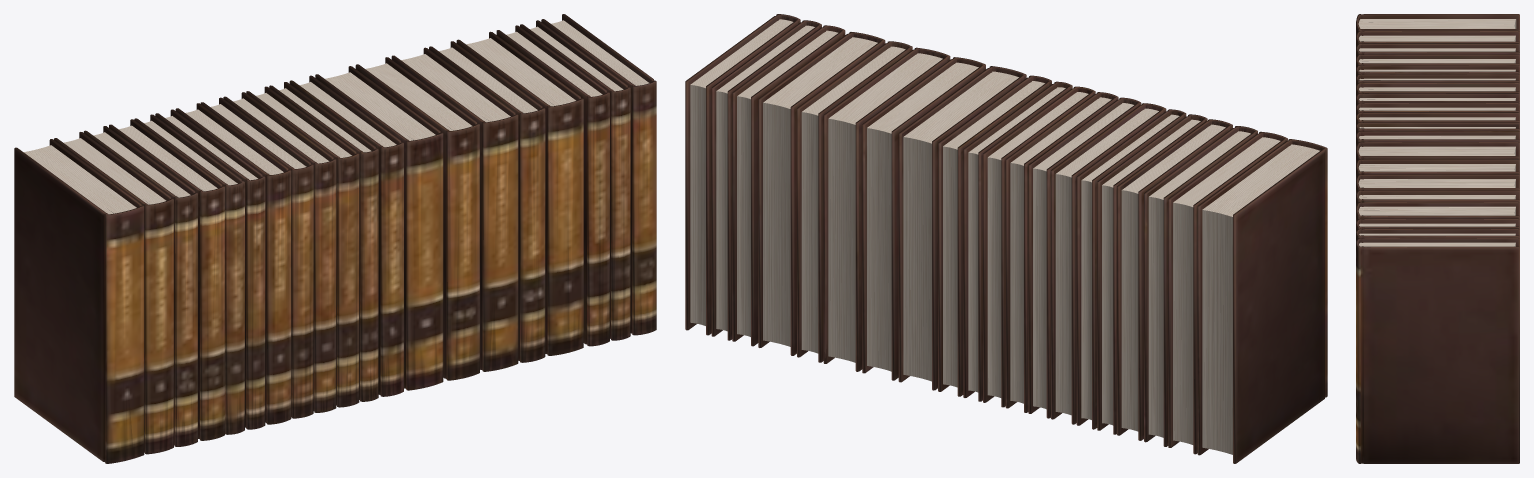
Rendered from books.glb.
3 views of the same model, side by side, from view 1: azimuth 30°, elevation 25°; view 2: azimuth 150°, elevation 25°; view 3: azimuth 270°, elevation 25° (orthographic). The views are drawn at different scales.
Parts seen in each view (by area): view 1: book_encyclopedia_set_01_book01, book_encyclopedia_set_01_book13, book_encyclopedia_set_01_book15, book_encyclopedia_set_01_book17, book_encyclopedia_set_01_book14, book_encyclopedia_set_01_book02, book_encyclopedia_set_01_book16, book_encyclopedia_set_01_book04, book_encyclopedia_set_01_book18, book_encyclopedia_set_01_book20, book_encyclopedia_set_01_book07, book_encyclopedia_set_01_book12 (+8 smaller); view 2: book_encyclopedia_set_01_book01, book_encyclopedia_set_01_book13, book_encyclopedia_set_01_book15, book_encyclopedia_set_01_book17, book_encyclopedia_set_01_book14, book_encyclopedia_set_01_book02, book_encyclopedia_set_01_book04, book_encyclopedia_set_01_book16, book_encyclopedia_set_01_book18, book_encyclopedia_set_01_book20, book_encyclopedia_set_01_book07, book_encyclopedia_set_01_book12 (+8 smaller); view 3: book_encyclopedia_set_01_book20, book_encyclopedia_set_01_book13, book_encyclopedia_set_01_book01, book_encyclopedia_set_01_book17, book_encyclopedia_set_01_book15, book_encyclopedia_set_01_book14, book_encyclopedia_set_01_book02, book_encyclopedia_set_01_book16, book_encyclopedia_set_01_book03, book_encyclopedia_set_01_book12, book_encyclopedia_set_01_book04, book_encyclopedia_set_01_book07 (+8 smaller).
Part boxes in pixels (x1,y1,x2,y2): book_encyclopedia_set_01_book01: (14, 139, 144, 463); book_encyclopedia_set_01_book13: (315, 66, 443, 390); book_encyclopedia_set_01_book15: (391, 47, 518, 371); book_encyclopedia_set_01_book17: (456, 31, 583, 355); book_encyclopedia_set_01_book14: (355, 57, 479, 380); book_encyclopedia_set_01_book02: (54, 132, 173, 454); book_encyclopedia_set_01_book16: (429, 41, 545, 362); book_encyclopedia_set_01_book04: (109, 119, 224, 440); book_encyclopedia_set_01_book18: (496, 25, 609, 346); book_encyclopedia_set_01_book20: (541, 14, 656, 335); book_encyclopedia_set_01_book07: (175, 103, 291, 424); book_encyclopedia_set_01_book12: (289, 75, 403, 396); book_encyclopedia_set_01_book01: (1197, 139, 1327, 463); book_encyclopedia_set_01_book13: (898, 66, 1026, 390); book_encyclopedia_set_01_book15: (823, 47, 950, 371); book_encyclopedia_set_01_book17: (758, 32, 885, 355); book_encyclopedia_set_01_book14: (862, 57, 985, 380); book_encyclopedia_set_01_book02: (1168, 131, 1287, 454); book_encyclopedia_set_01_book04: (1117, 119, 1232, 440); book_encyclopedia_set_01_book16: (797, 41, 912, 362); book_encyclopedia_set_01_book18: (732, 25, 845, 346); book_encyclopedia_set_01_book20: (685, 14, 800, 335); book_encyclopedia_set_01_book07: (1051, 103, 1166, 424); book_encyclopedia_set_01_book12: (938, 75, 1051, 396); book_encyclopedia_set_01_book20: (1356, 238, 1519, 463); book_encyclopedia_set_01_book13: (1356, 142, 1519, 164); book_encyclopedia_set_01_book01: (1356, 14, 1519, 36); book_encyclopedia_set_01_book17: (1356, 202, 1519, 223); book_encyclopedia_set_01_book15: (1356, 174, 1519, 194); book_encyclopedia_set_01_book14: (1356, 159, 1519, 180); book_encyclopedia_set_01_book02: (1356, 30, 1519, 47); book_encyclopedia_set_01_book16: (1356, 190, 1519, 210); book_encyclopedia_set_01_book03: (1356, 43, 1519, 59); book_encyclopedia_set_01_book12: (1356, 131, 1519, 148); book_encyclopedia_set_01_book04: (1356, 54, 1519, 68); book_encyclopedia_set_01_book07: (1356, 82, 1519, 96).
Size of the model in its own units: 0.5513 by 0.2374 by 0.1631.
2 materials, 2 textured.
